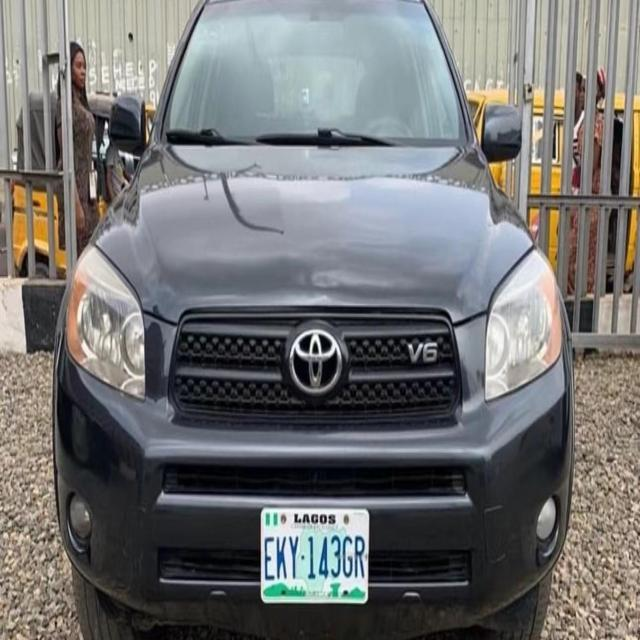Nigerian License Plate - vdataset benjamin-daria: (258, 506, 372, 610)
